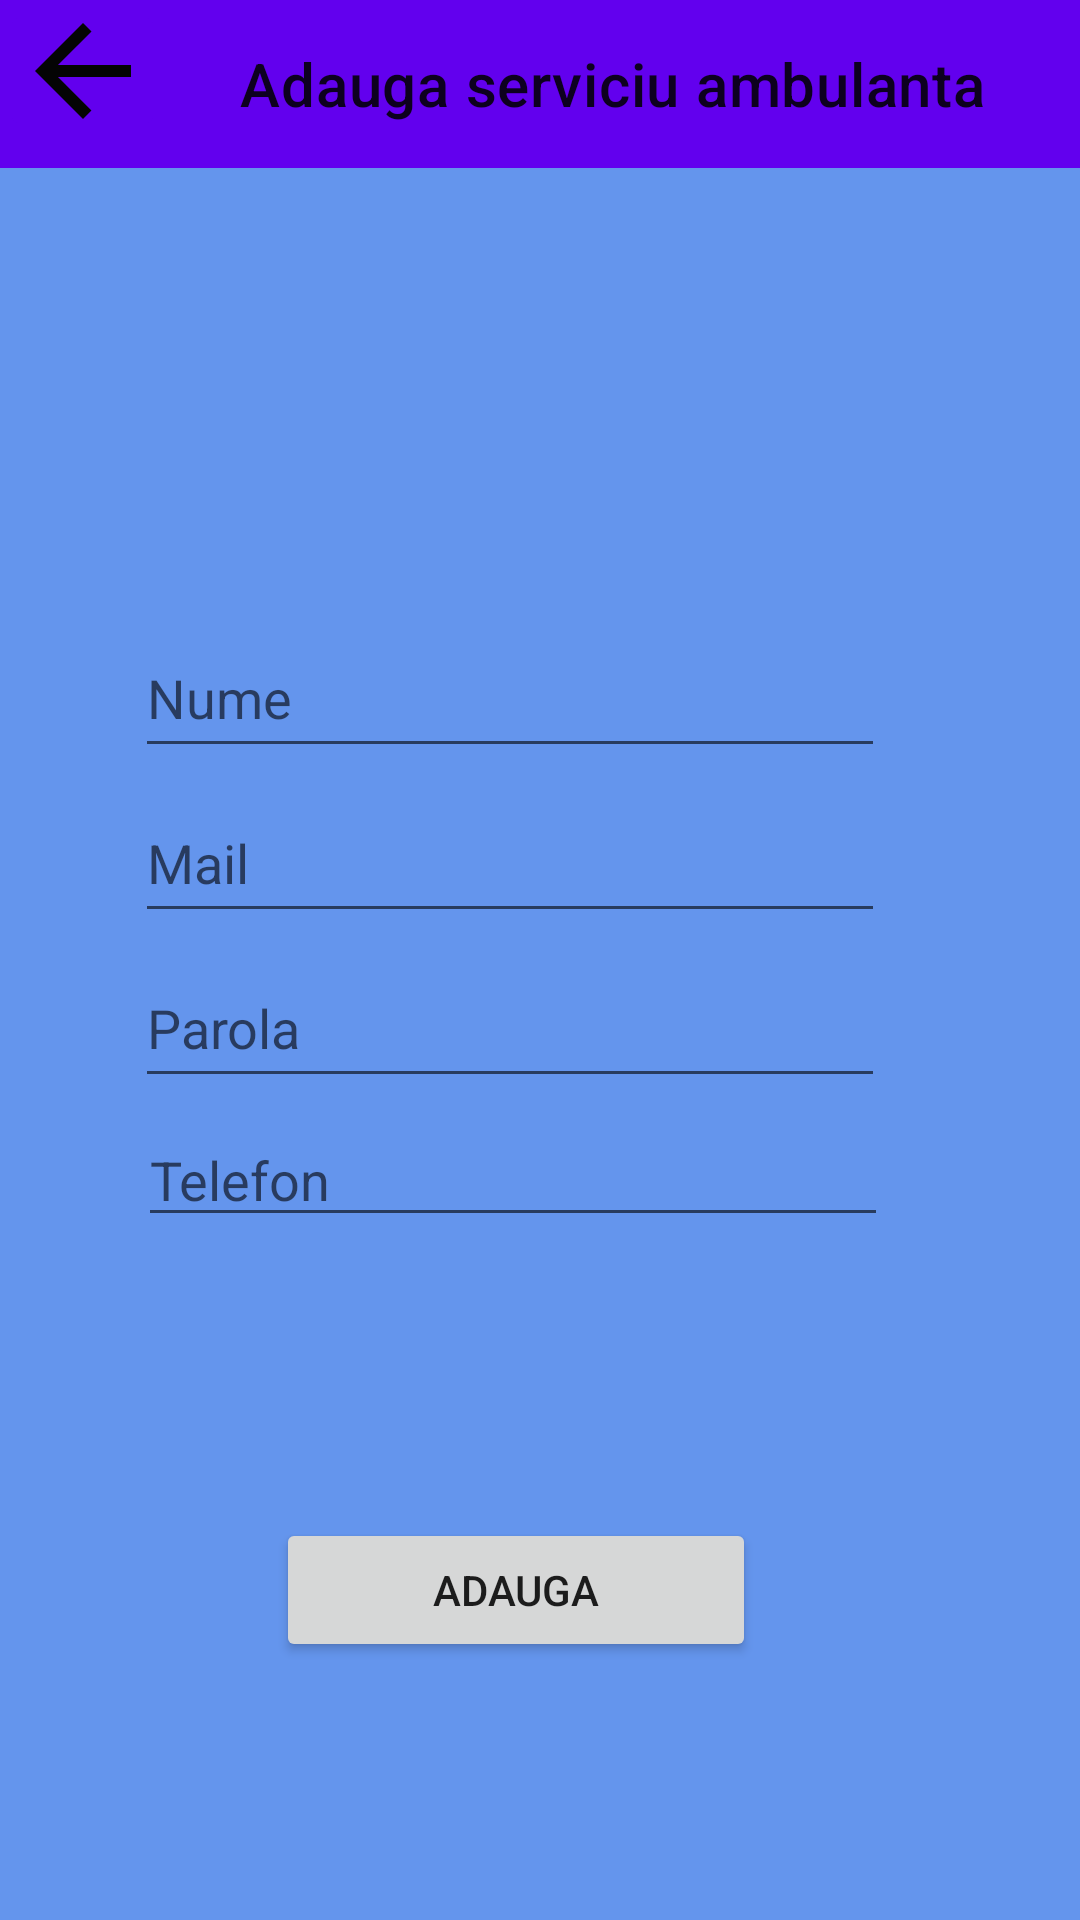

Screen size 1080*1920. Icon name, then its box in pixels as (x1, y1, x2, y2):
arrow back: (35, 23, 131, 119)
